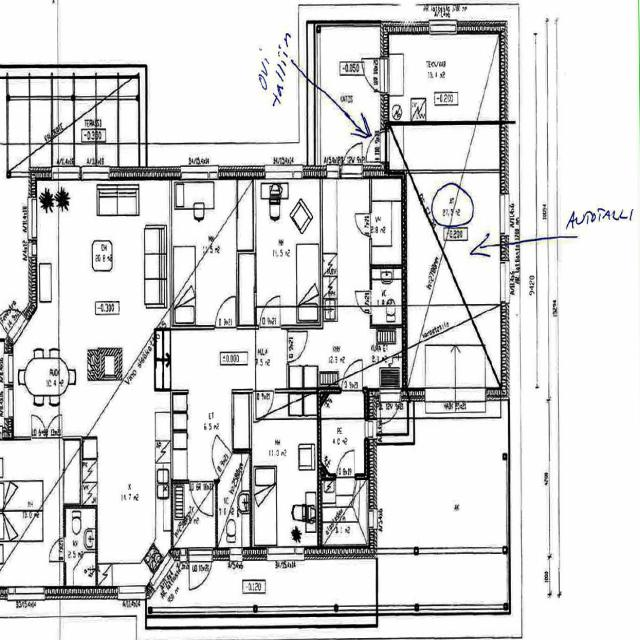door: (0, 291, 28, 344), (204, 435, 233, 478), (189, 548, 213, 596), (357, 58, 389, 93), (190, 479, 213, 518), (380, 388, 400, 432), (360, 132, 389, 162), (342, 135, 362, 178), (286, 331, 310, 362), (215, 294, 236, 329), (342, 357, 363, 392), (253, 388, 274, 423), (260, 295, 280, 329), (338, 448, 354, 480), (354, 290, 372, 314), (48, 538, 66, 561), (32, 414, 47, 441), (47, 414, 62, 441), (355, 214, 372, 236)
